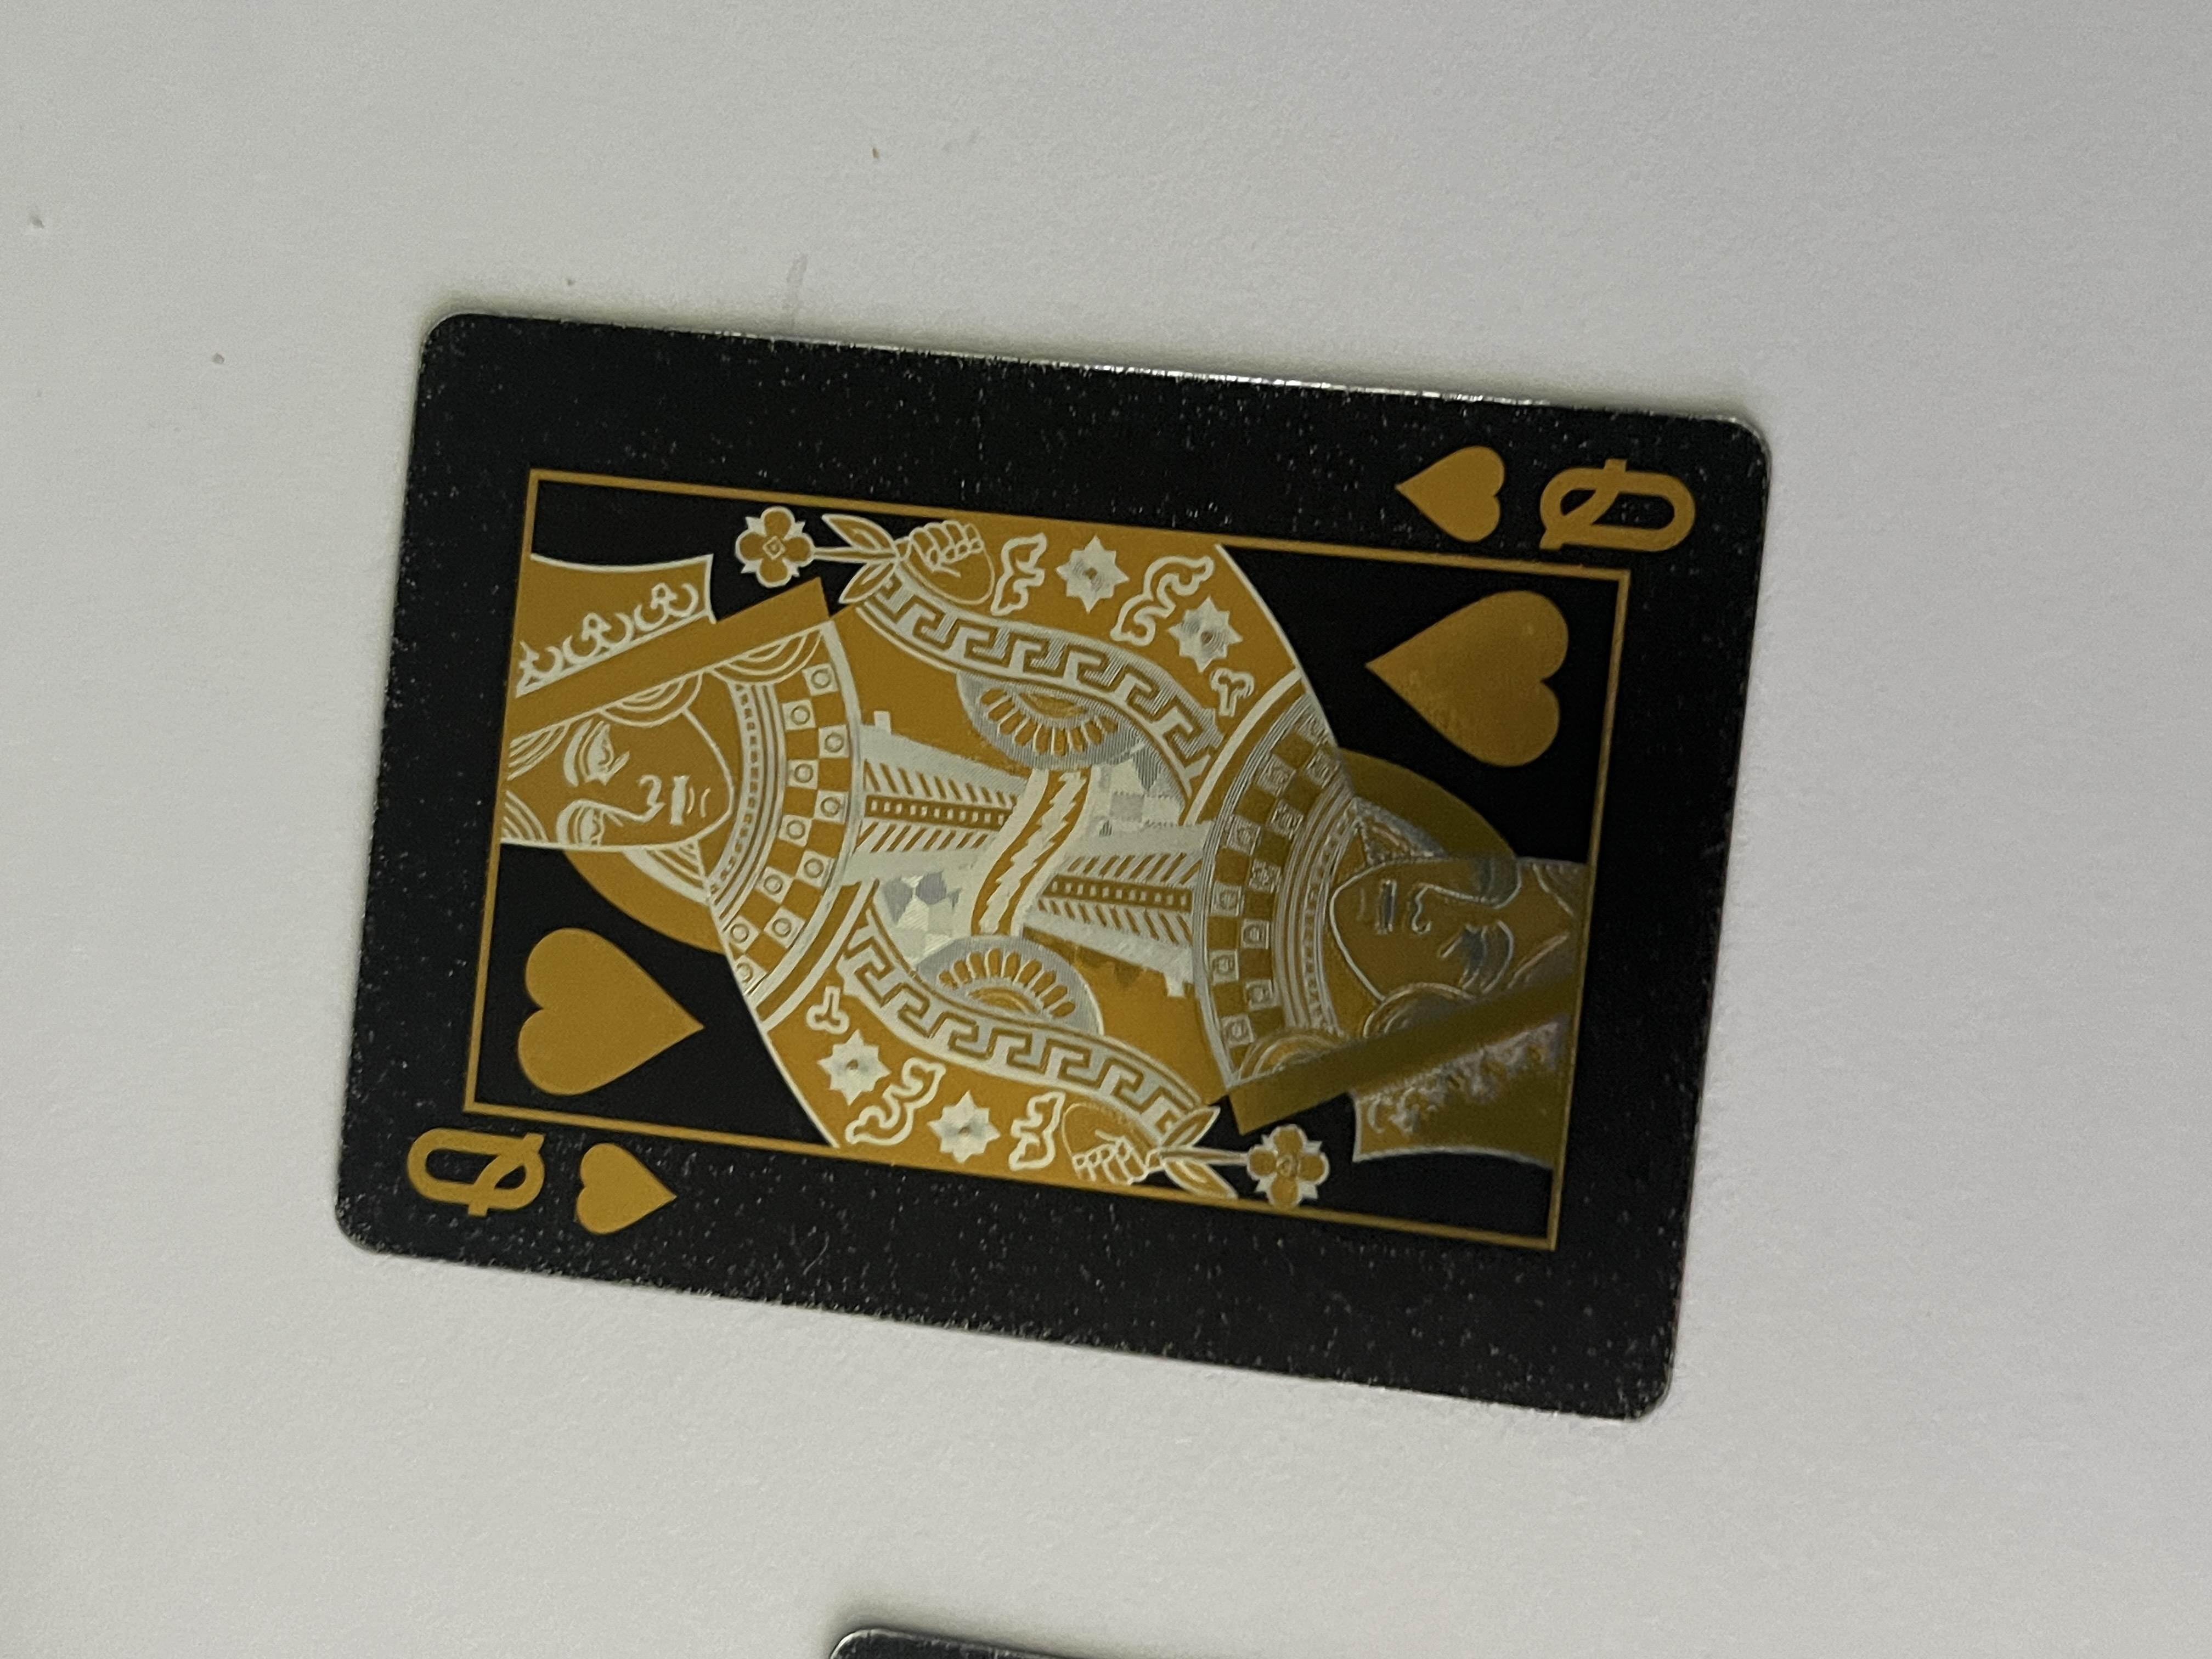QH: (1449, 1046, 1632, 1290), (549, 295, 735, 525)
